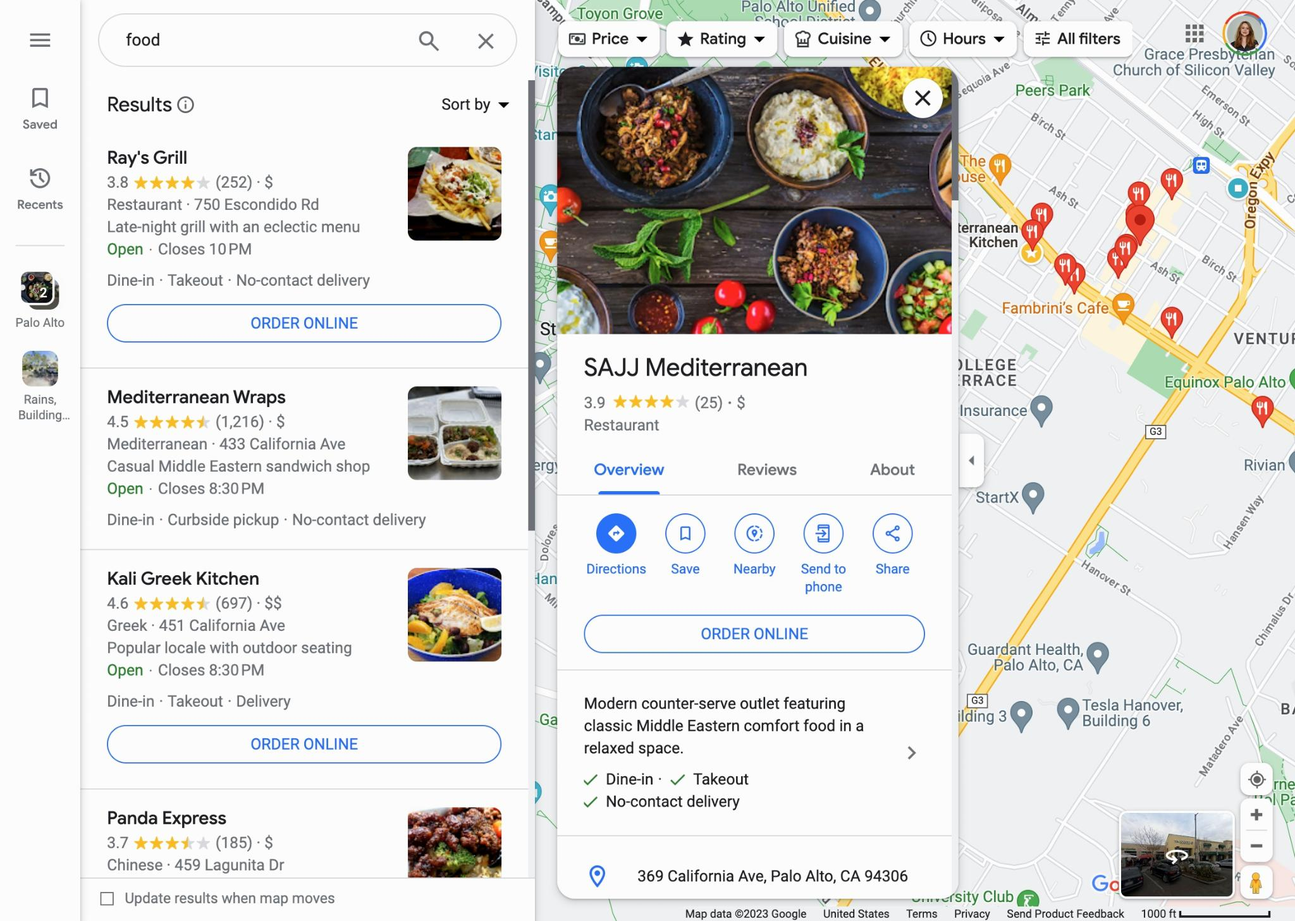webelement: (0, 0, 1294, 920), (79, 79, 534, 876), (556, 66, 957, 898), (79, 128, 527, 366), (79, 549, 527, 787), (556, 66, 950, 332), (79, 368, 527, 548), (0, 0, 79, 920), (556, 670, 950, 834), (79, 789, 527, 921), (556, 495, 950, 606), (541, 14, 1144, 62), (556, 853, 950, 921), (97, 13, 516, 66), (106, 295, 500, 348), (106, 717, 500, 770), (556, 440, 950, 493), (583, 606, 924, 659), (556, 853, 950, 898), (1118, 810, 1233, 898), (556, 898, 950, 921), (125, 26, 396, 52), (556, 836, 950, 853), (0, 341, 79, 425), (100, 884, 334, 912), (685, 906, 1140, 920), (788, 506, 857, 595), (783, 14, 901, 62), (575, 440, 681, 493), (0, 263, 79, 332), (665, 14, 776, 62), (1023, 14, 1133, 62), (909, 14, 1016, 62), (719, 440, 813, 493), (106, 457, 368, 476), (581, 506, 650, 577), (650, 506, 719, 577), (719, 506, 788, 577), (857, 506, 926, 577), (0, 75, 79, 137), (0, 155, 79, 217), (573, 278, 701, 316), (557, 14, 658, 62), (427, 79, 520, 128), (106, 218, 359, 236), (106, 639, 351, 657), (852, 440, 931, 493), (106, 878, 322, 897), (79, 260, 527, 269), (79, 499, 527, 508), (79, 681, 527, 690), (570, 790, 739, 812), (556, 659, 950, 668), (106, 410, 263, 432), (106, 170, 252, 192), (106, 592, 252, 614), (106, 831, 252, 853), (0, 17, 79, 57), (455, 14, 515, 65), (402, 13, 455, 66), (886, 849, 939, 902), (291, 510, 425, 529), (236, 271, 369, 289), (143, 479, 264, 498), (218, 435, 344, 453), (158, 617, 284, 635), (193, 195, 318, 213), (79, 291, 527, 296), (79, 712, 527, 717), (143, 661, 264, 679), (166, 510, 278, 529), (1089, 870, 1162, 899), (174, 856, 283, 875), (656, 768, 747, 790), (162, 82, 206, 126), (143, 240, 250, 258), (143, 900, 243, 919), (570, 768, 652, 790), (106, 435, 206, 453), (1140, 907, 1270, 920), (1006, 906, 1123, 920), (902, 77, 942, 117), (595, 512, 635, 552), (664, 512, 704, 552), (733, 512, 773, 552), (803, 512, 843, 552), (684, 907, 806, 920), (872, 512, 911, 552), (1057, 27, 1120, 49), (957, 434, 983, 487), (583, 416, 659, 434), (106, 195, 181, 213), (21, 350, 57, 386), (605, 394, 693, 408), (817, 27, 870, 49), (1177, 16, 1210, 49), (1227, 16, 1260, 49), (440, 93, 489, 115), (1239, 797, 1271, 830), (1239, 865, 1271, 898), (106, 856, 161, 875), (699, 27, 746, 49), (1239, 762, 1271, 794), (1239, 829, 1271, 861), (166, 271, 222, 289), (166, 692, 222, 710), (235, 692, 290, 710), (20, 271, 51, 302), (27, 278, 58, 309), (942, 27, 985, 49), (823, 906, 888, 920), (106, 510, 153, 529), (106, 271, 153, 289), (106, 692, 153, 710), (591, 27, 627, 49), (583, 862, 610, 889), (106, 617, 146, 635), (573, 285, 604, 308), (106, 479, 143, 498), (106, 900, 143, 919), (106, 240, 143, 258), (106, 661, 143, 679), (959, 448, 983, 472), (693, 393, 721, 412), (953, 906, 988, 920), (578, 768, 600, 790), (666, 768, 688, 790), (578, 790, 600, 812), (24, 282, 47, 302), (1140, 907, 1175, 920), (722, 393, 745, 412), (905, 906, 936, 920), (566, 28, 586, 48), (674, 28, 694, 48), (917, 28, 937, 48), (1032, 28, 1052, 48), (605, 522, 625, 542), (674, 522, 694, 542), (743, 522, 763, 542), (793, 28, 812, 48), (174, 94, 194, 113), (263, 412, 283, 431), (252, 833, 272, 852), (813, 522, 832, 542), (882, 522, 901, 542), (583, 907, 610, 921), (252, 173, 272, 191), (263, 594, 281, 612), (275, 412, 284, 431), (263, 833, 272, 852), (735, 393, 744, 412), (263, 173, 272, 191), (569, 768, 574, 790), (569, 790, 574, 812), (657, 768, 661, 790)
